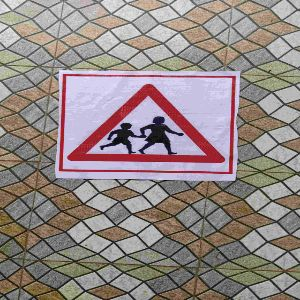schools: (62, 79, 231, 174)
